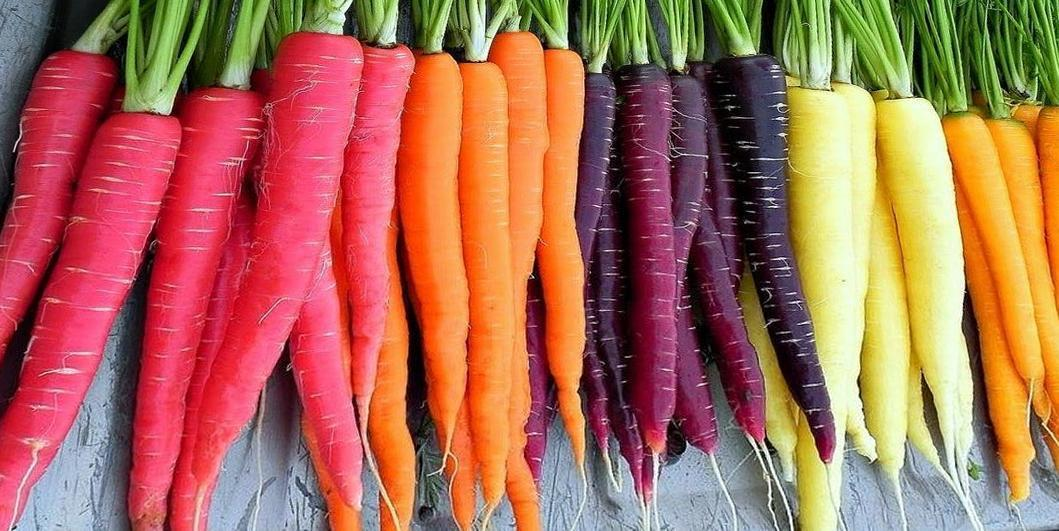carrot: (416, 0, 577, 512), (414, 52, 538, 531)
